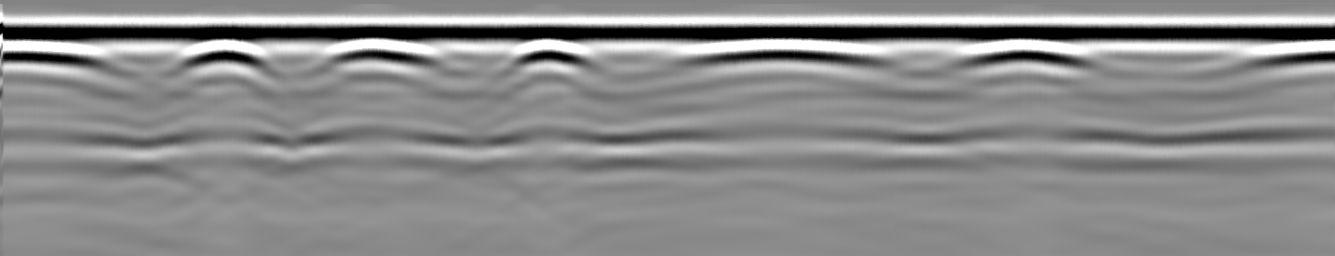steel: (679, 40, 885, 64), (2, 41, 116, 71), (957, 42, 1092, 67), (320, 41, 439, 66), (173, 40, 274, 68), (500, 40, 595, 66)
